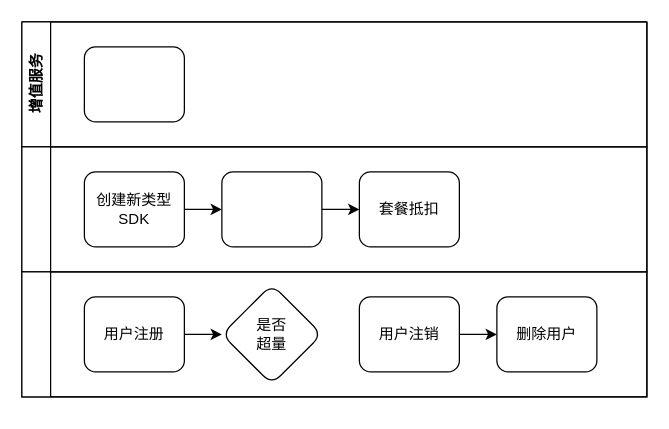
Image size: 669x429. Some labels were removed from this diagram. Each missing label, with the box of its shape:
SDK 创建: (21, 146, 647, 272)
SDK 开发: (21, 271, 647, 397)
购买套餐: (83, 46, 184, 122)
选择购买的 套餐: (221, 171, 322, 247)
